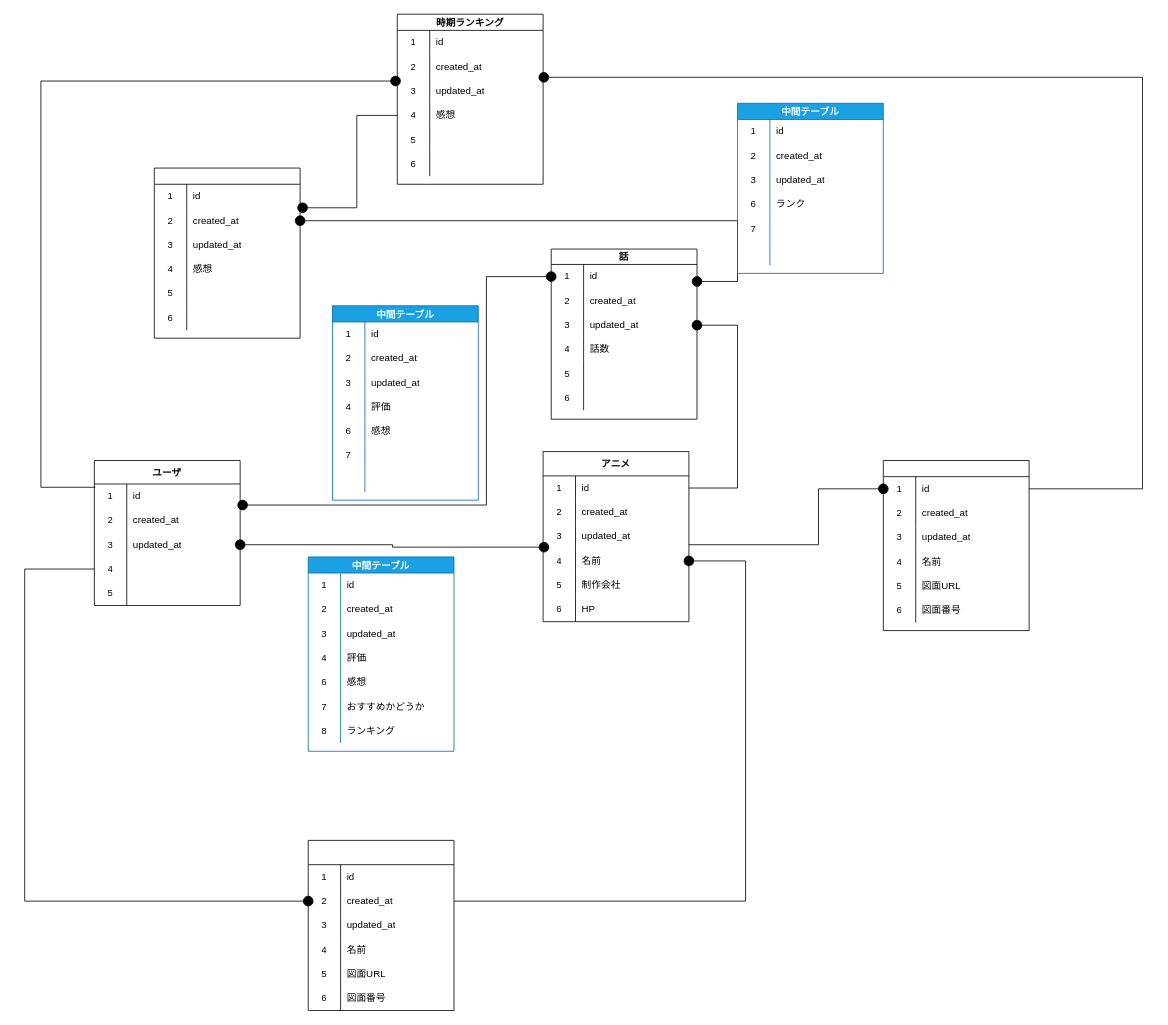
Some shapes in this 1168 by 1025 pixel diagram are drawn without their labels. Here are the shapes that lost their labels. From the top down, the box of each, then its label:
(153, 167, 300, 338): 習慣ランキング
(882, 460, 1029, 631): 時期
(307, 840, 454, 1010): おすすめ
